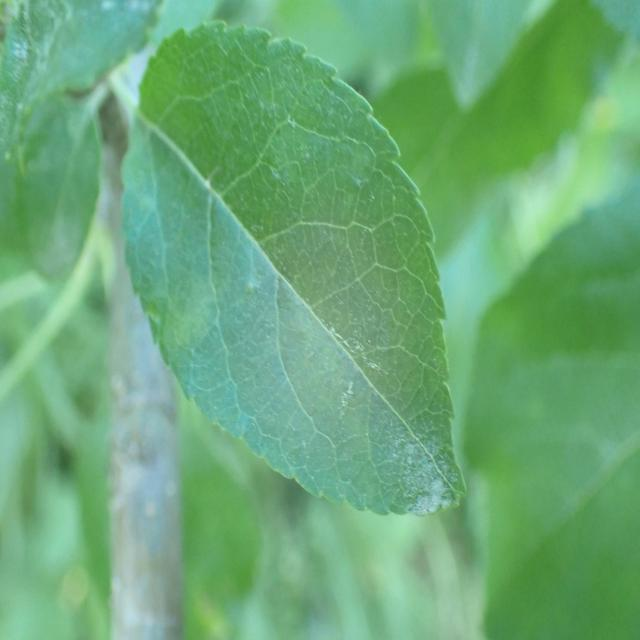scab: (148, 72, 450, 515)
